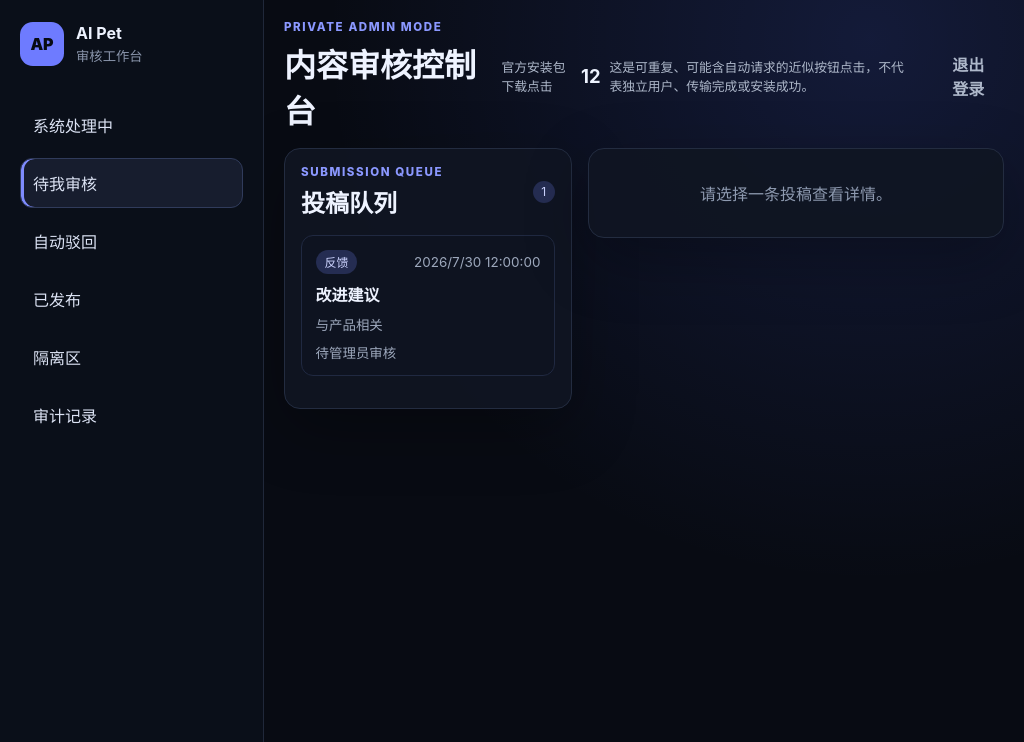
Test case: 管理员审核工作台 › 管理员详情未提供待审 ZIP 时不显示下载链接
Click the text "改进建议" at (348, 295), box [316, 285, 380, 305]
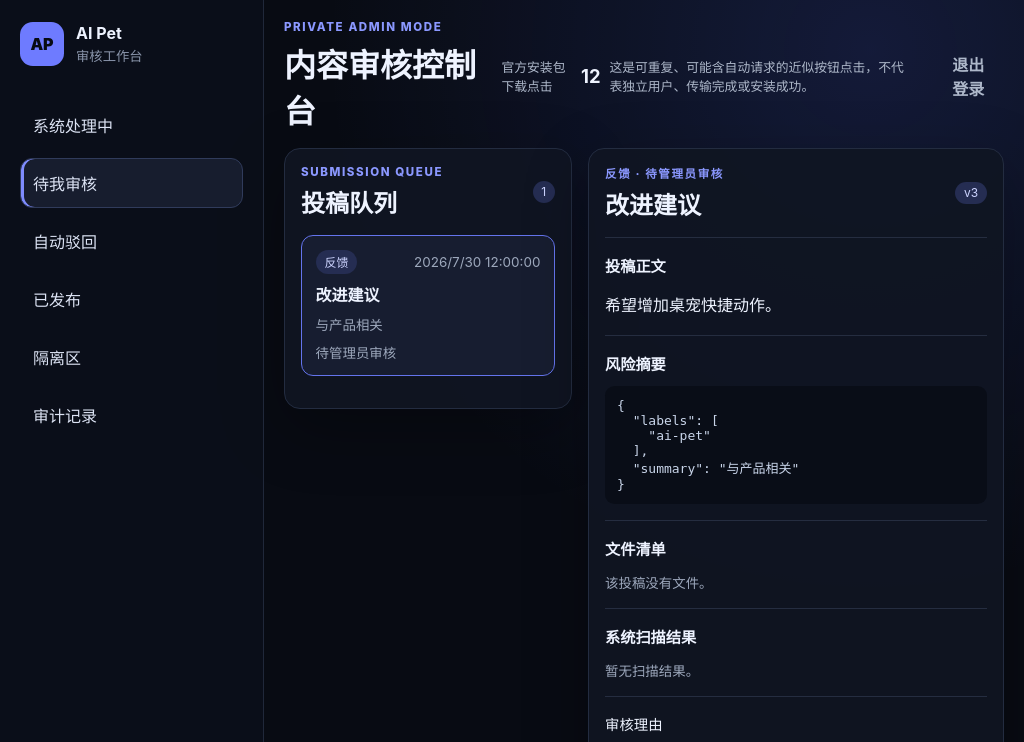
Expected: the text "希望增加桌宠快捷动作。" is shown, [605, 295, 781, 315]
